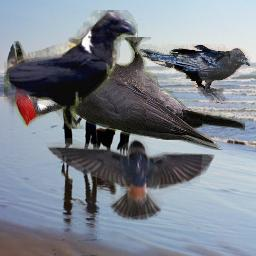Crow: (4, 10, 138, 129), (138, 44, 251, 104)
Swallow: (42, 137, 217, 221)
Woodpecker: (14, 37, 245, 150)
